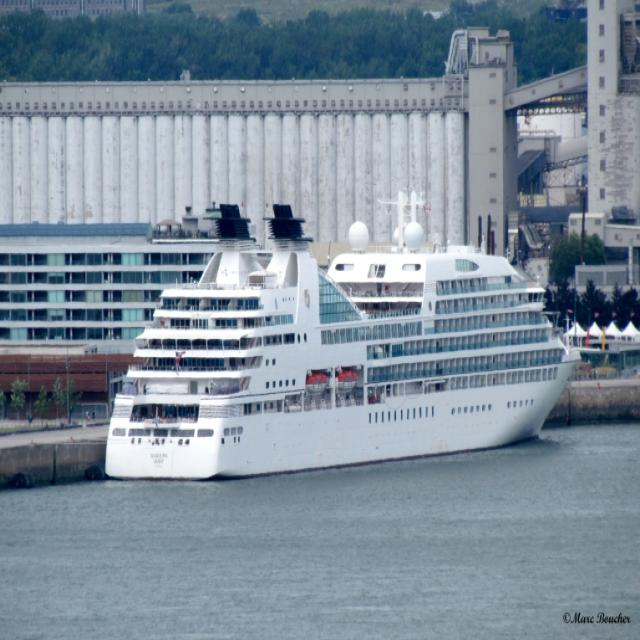cruises: (101, 187, 573, 491)
